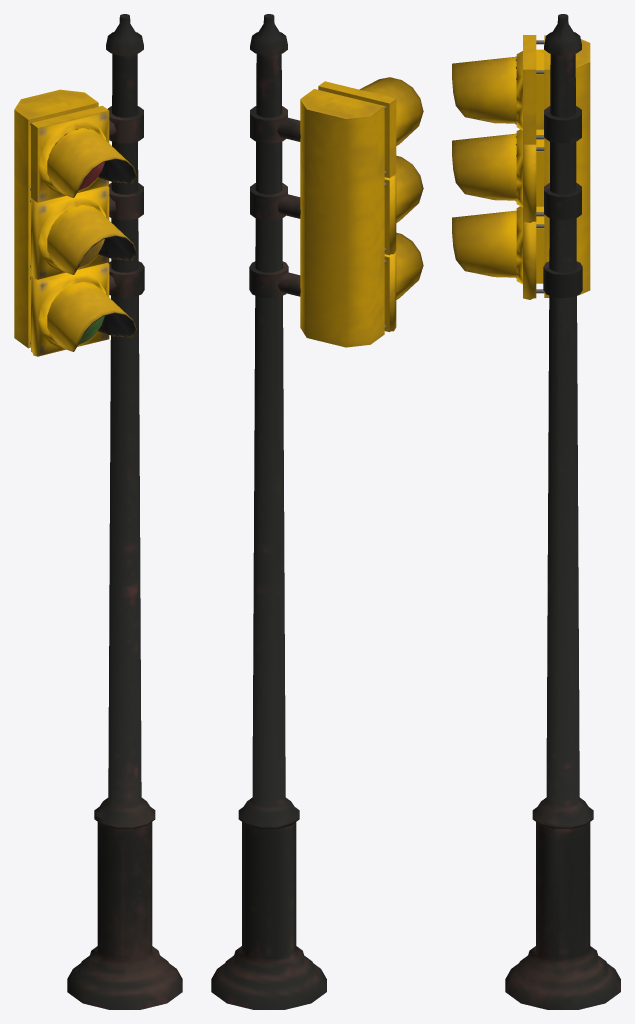
File: o3_semaforo_palo.glb
3 renders of one model, left to right at view 1: azimuth 30°, elevation 25°; view 2: azimuth 150°, elevation 25°; view 3: azimuth 270°, elevation 25°, orthographic.
Parts seen in each view (by area): view 1: sb_modello; view 2: sb_modello; view 3: sb_modello.
Part boxes in pixels (x1,y1,x2,y2): sb_modello: (14,14,182,1009); sb_modello: (211,14,423,1009); sb_modello: (452,14,620,1009).
Bounding box in the file's own units: 0.6063 × 3.55 × 0.5599.
Materials: 1 (1 with a texture image).
